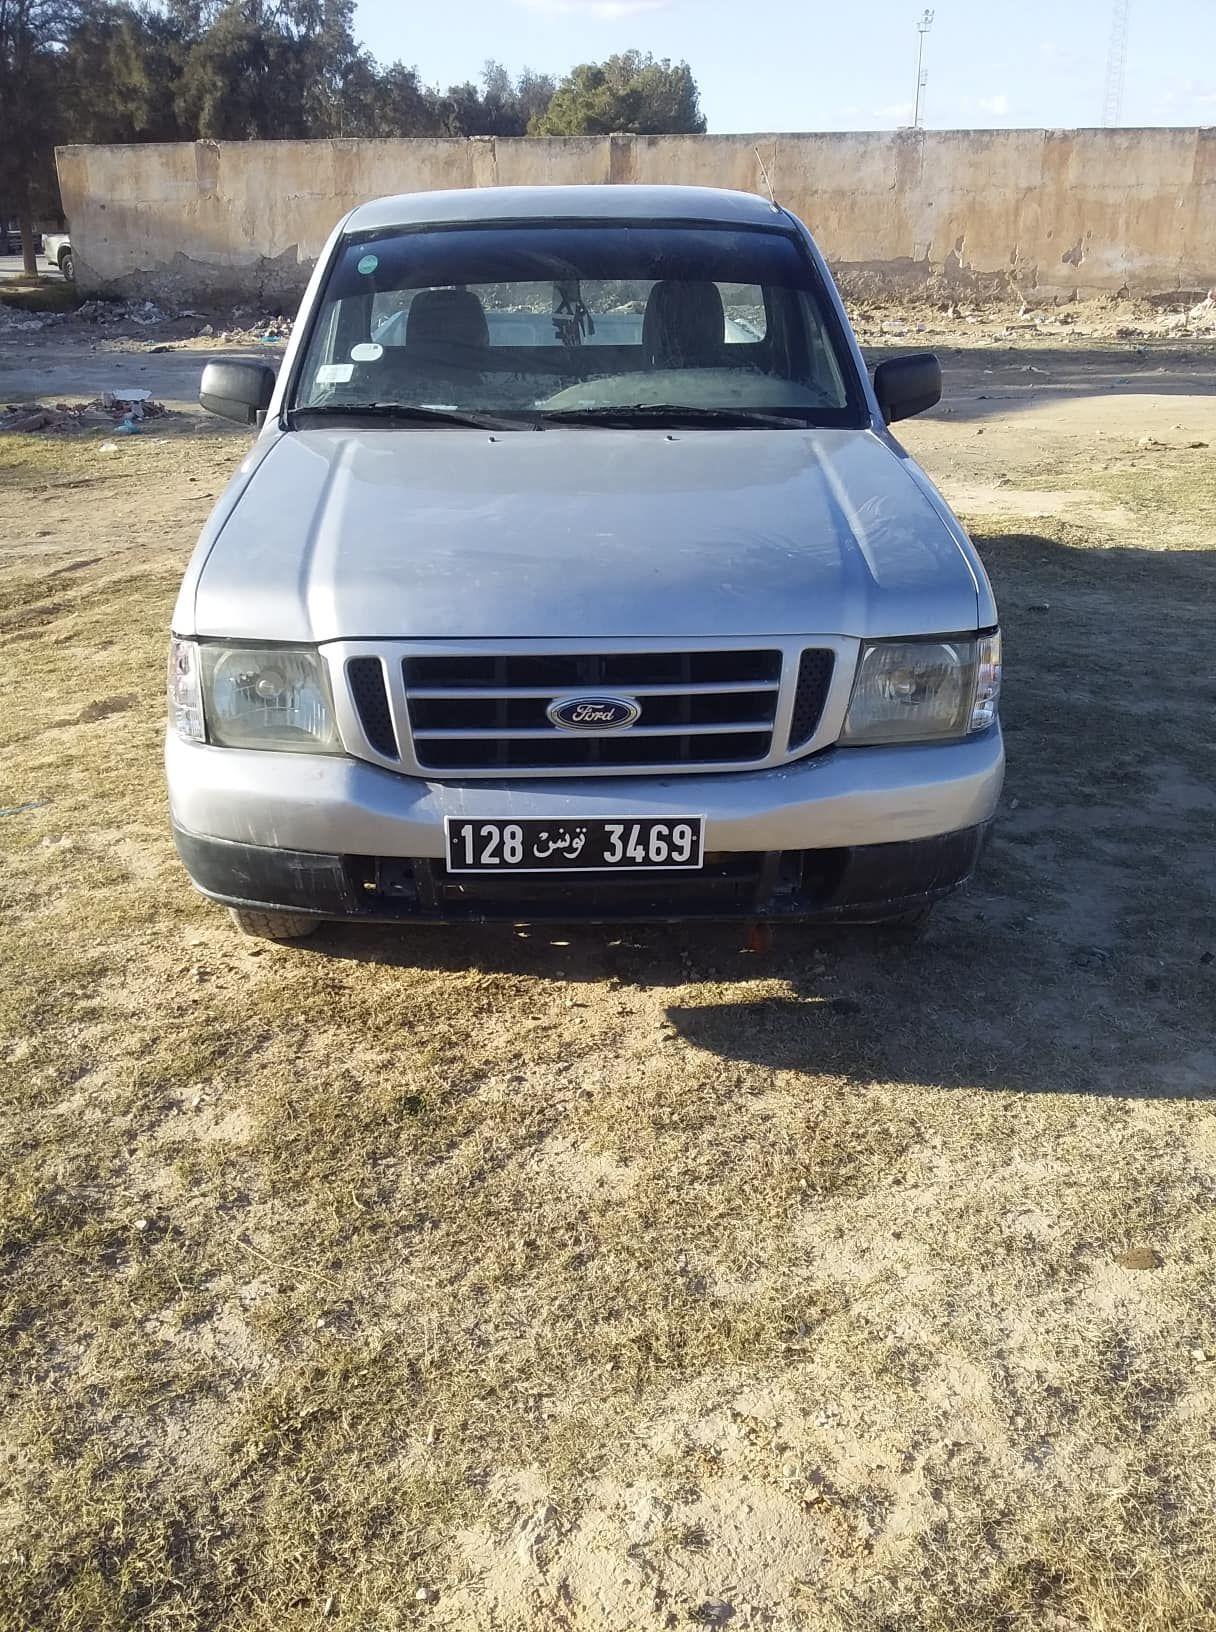LP: (441, 810, 707, 876)
